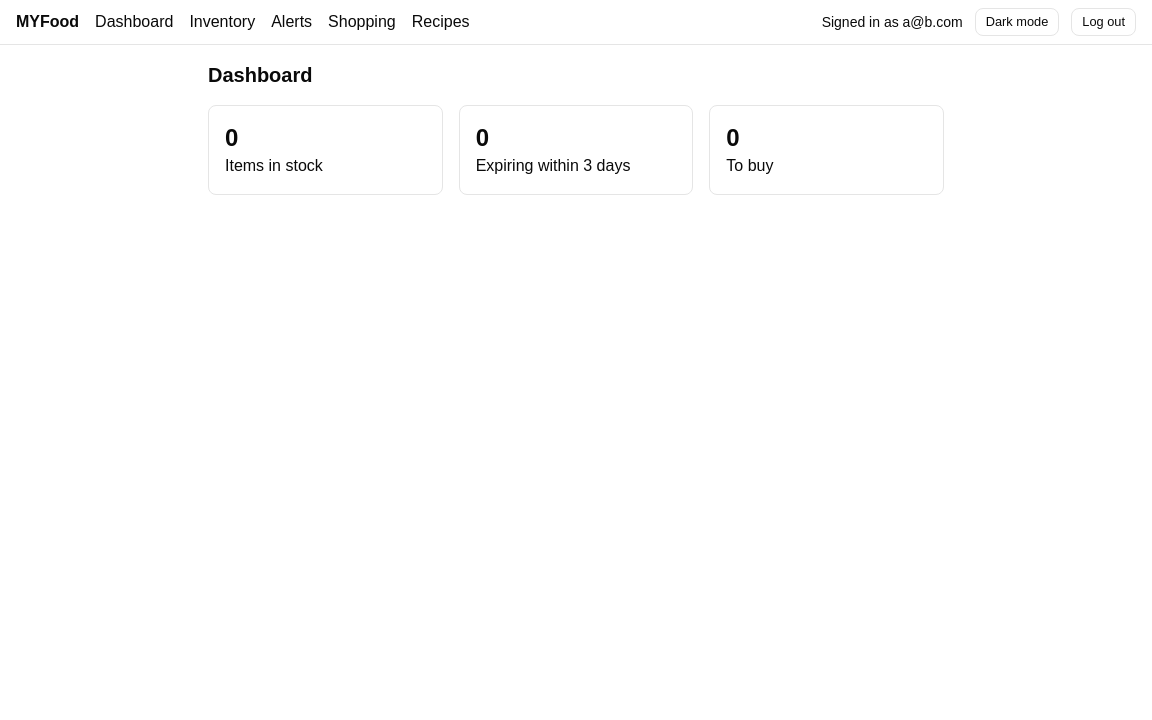
auth flow › logs out
Click the button "Log out": (1104, 22) [1071,8,1136,36]
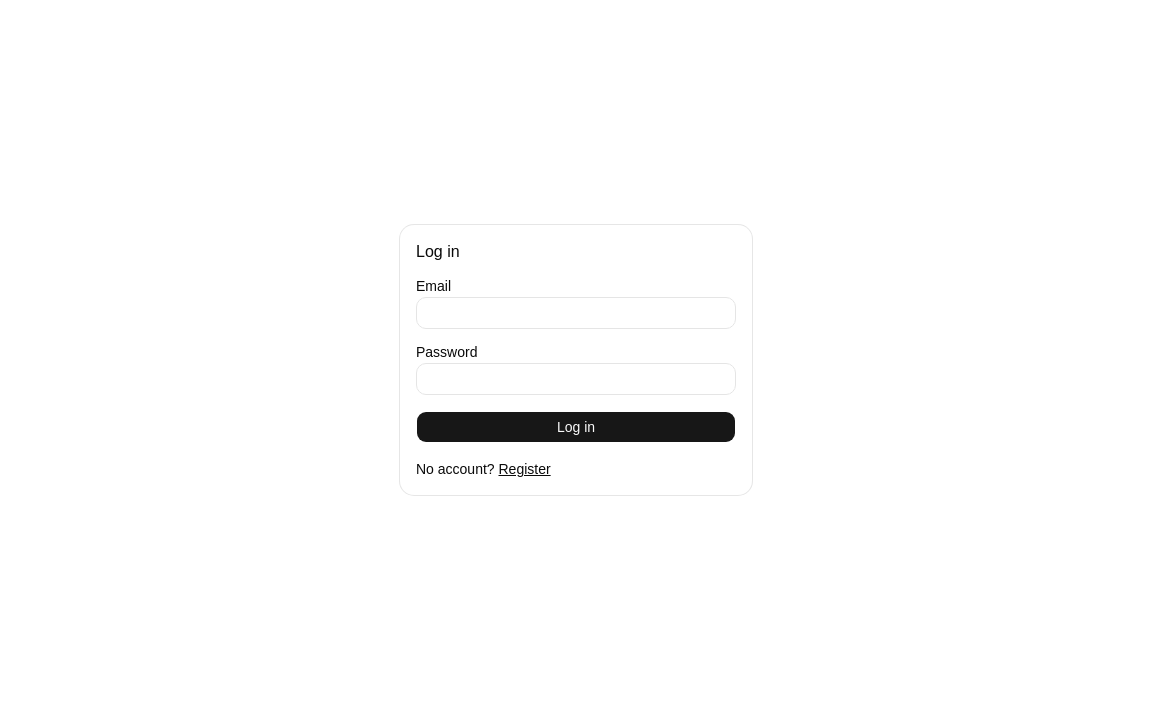
Result: the heading "Log in" is shown at [416,243,460,260]
